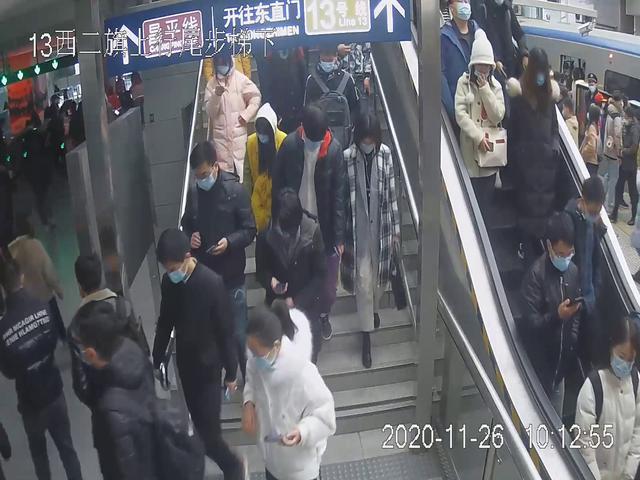person: (148, 224, 239, 480), (234, 295, 336, 480), (340, 109, 408, 371), (508, 209, 587, 426), (272, 100, 352, 301), (176, 139, 258, 319), (505, 42, 571, 265), (259, 188, 336, 364), (569, 310, 640, 480), (453, 24, 507, 234), (194, 45, 267, 195)
